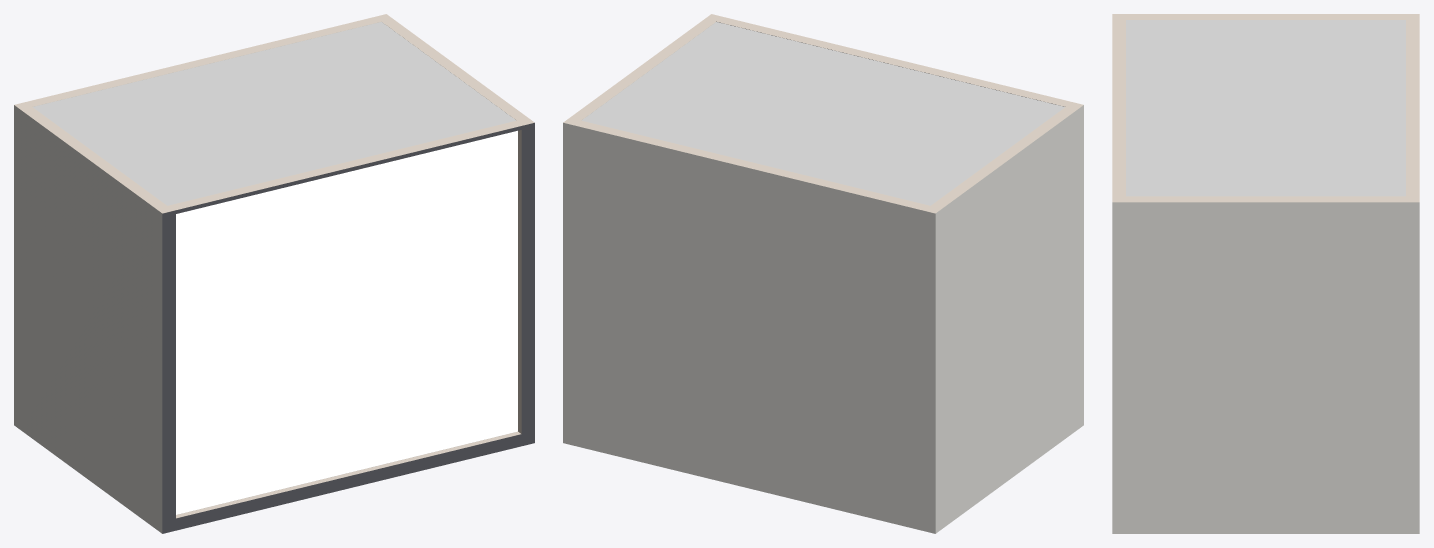
File: room.glb
The picture shows the model from 3 angles, left to right: view 1: azimuth 30°, elevation 25°; view 2: azimuth 150°, elevation 25°; view 3: azimuth 270°, elevation 25°; orthographic projection. The views are drawn at different scales.
Visible parts, largest first — view 1: Door_0, Wall_1, Ceiling_Office, Wall_3, Wall_0, Wall_2; view 2: Wall_0, Wall_1, Ceiling_Office, Wall_3, Wall_2; view 3: Wall_2, Ceiling_Office, Wall_0, Wall_3, Wall_1.
Part boxes in pixels (x1=…): Door_0: x1=176, y1=130, x2=517, y2=514; Wall_1: x1=14, y1=105, x2=166, y2=533; Ceiling_Office: x1=33, y1=22, x2=515, y2=205; Wall_3: x1=162, y1=120, x2=534, y2=533; Wall_0: x1=14, y1=14, x2=386, y2=106; Wall_2: x1=381, y1=14, x2=534, y2=122; Wall_0: x1=563, y1=120, x2=935, y2=533; Wall_1: x1=931, y1=105, x2=1083, y2=533; Ceiling_Office: x1=582, y1=22, x2=1064, y2=205; Wall_3: x1=711, y1=14, x2=1083, y2=106; Wall_2: x1=563, y1=14, x2=716, y2=122; Wall_2: x1=1112, y1=196, x2=1419, y2=533; Ceiling_Office: x1=1126, y1=20, x2=1405, y2=196; Wall_0: x1=1406, y1=14, x2=1419, y2=201; Wall_3: x1=1112, y1=14, x2=1125, y2=201; Wall_1: x1=1113, y1=14, x2=1418, y2=19.
Bounding box in the file's own units: 3.22 × 2.64 × 2.22.
Materials: 10 (2 with a texture image).
